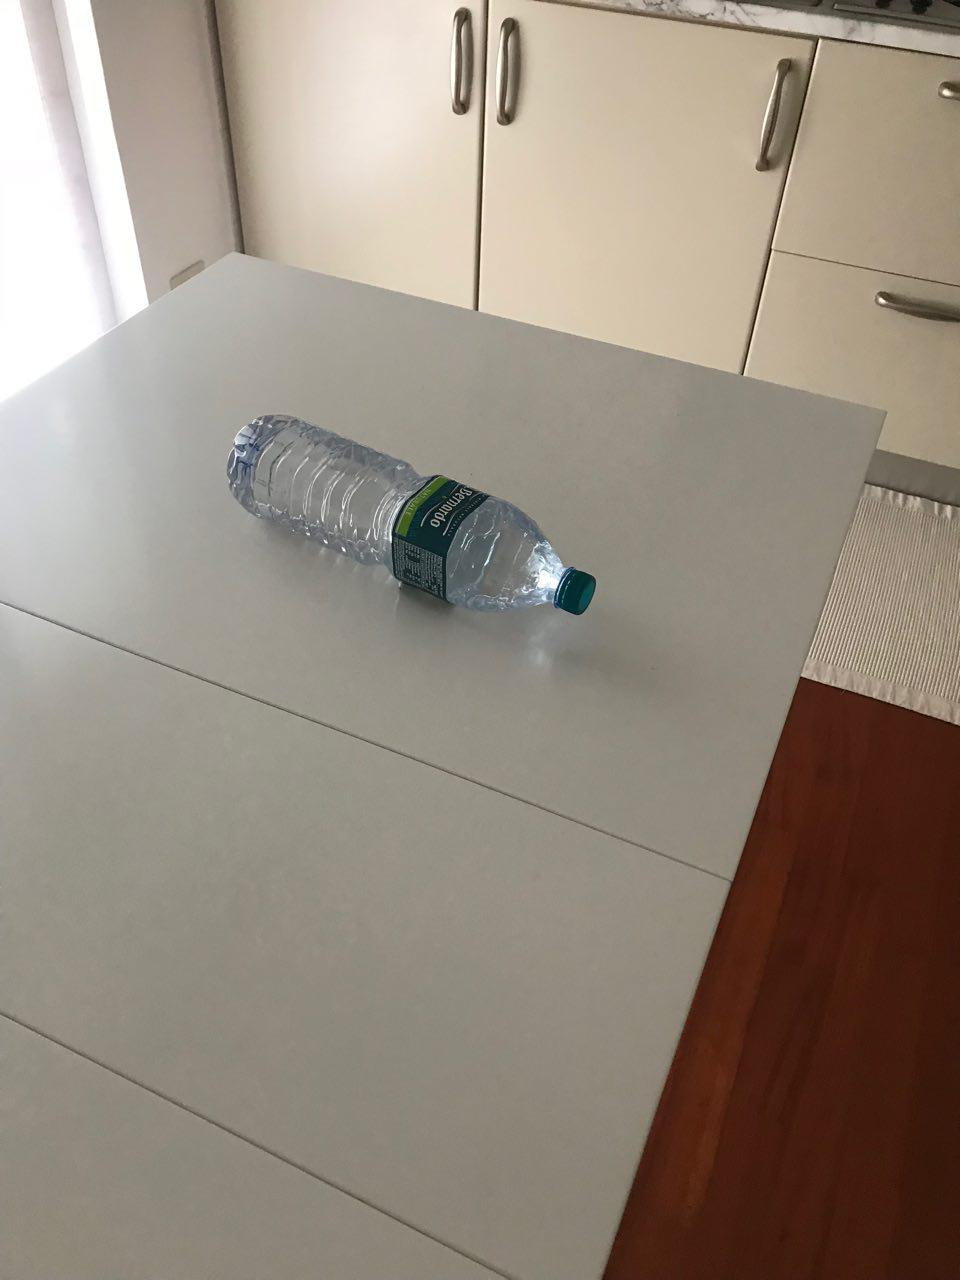san_bernardo: (225, 414, 596, 614)
